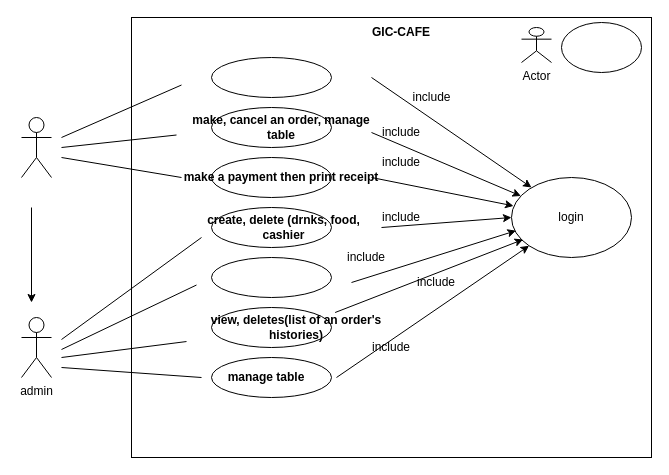
Some shapes in this 669 by 475 pixel diagram are drawn without their labels. The centre of each missing label's shape, as x and y in pixels:
"cashier" belongs at pixel 36 147.
"update(drinks. food, cashier)" belongs at pixel 271 277.
"userCase" belongs at pixel 601 47.
"view list of products(drinks, food)" belongs at pixel 271 77.
